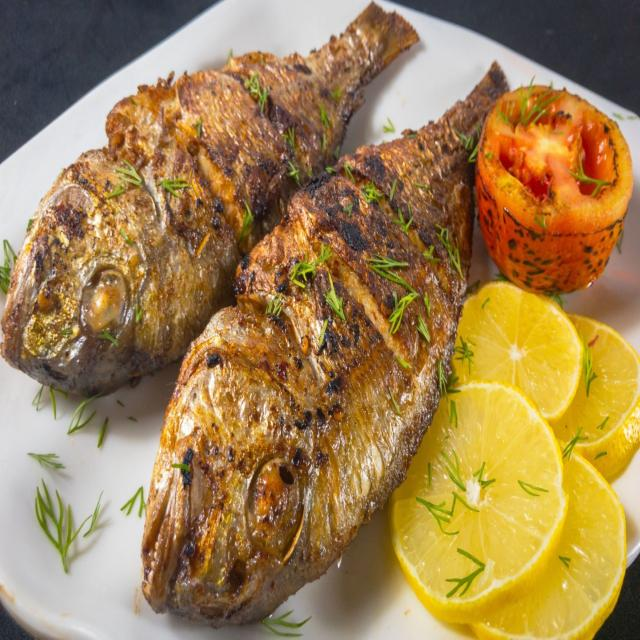Peixe: (139, 57, 510, 629), (1, 1, 420, 398), (474, 80, 634, 296)
